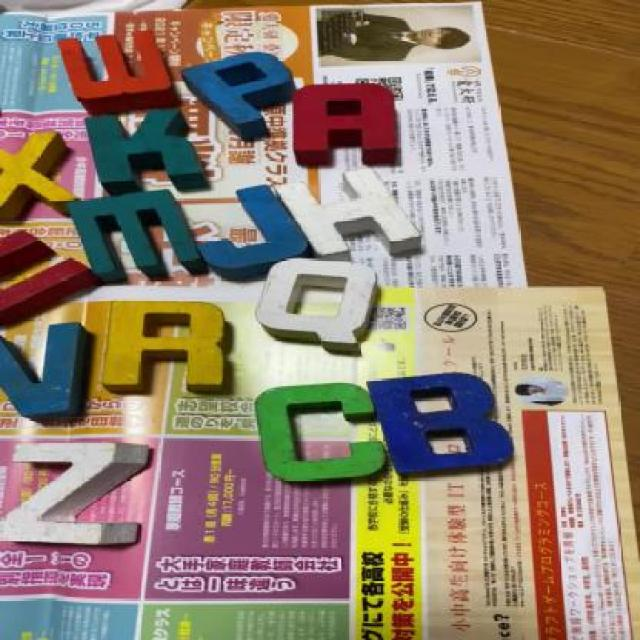A: (283, 87, 405, 159)
B: (366, 370, 517, 481)
C: (257, 383, 391, 486)
H: (282, 171, 427, 257)
J: (191, 184, 307, 274)
K: (83, 112, 209, 186)
M: (56, 194, 196, 275)
P: (186, 54, 294, 134)
Q: (248, 258, 378, 350)
R: (96, 300, 241, 395)
V: (0, 325, 91, 424)
W: (59, 28, 181, 107)
Z: (8, 442, 141, 548)
